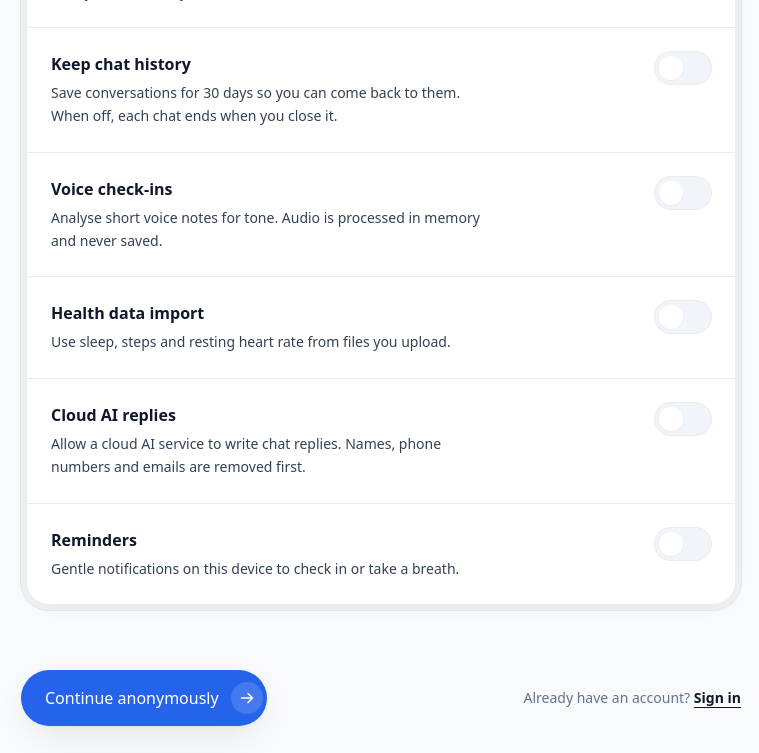
it: ConsentPage › requires core consent before creating a session
(page scrolled)
What coordinates should you click on to do the following:
click the button "Continue anonymously"
I would click on:
 (144, 698)
Its box is [21,670,267,726].
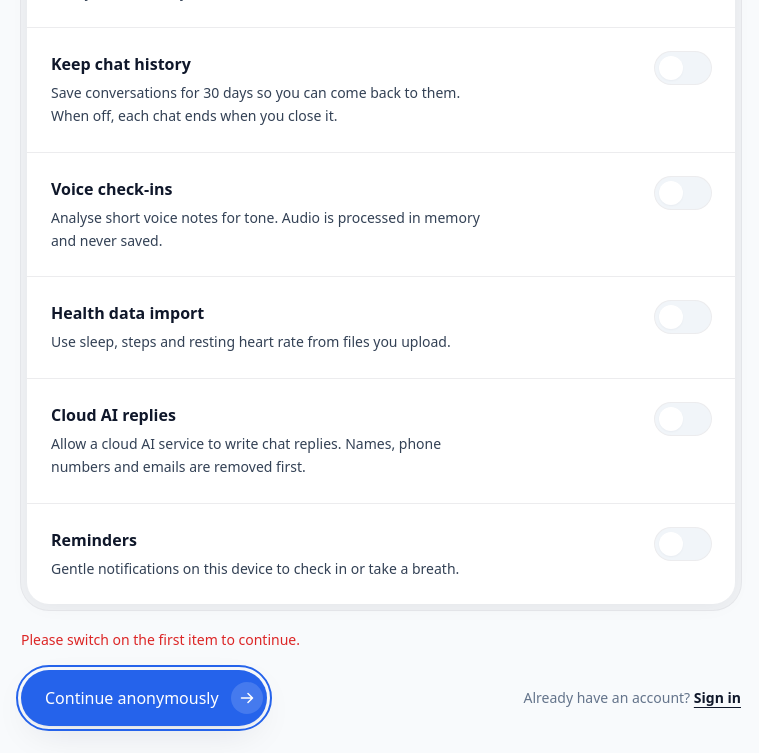
Result: the text "Please switch on the first item to continue." is shown at [21,630,300,649]
